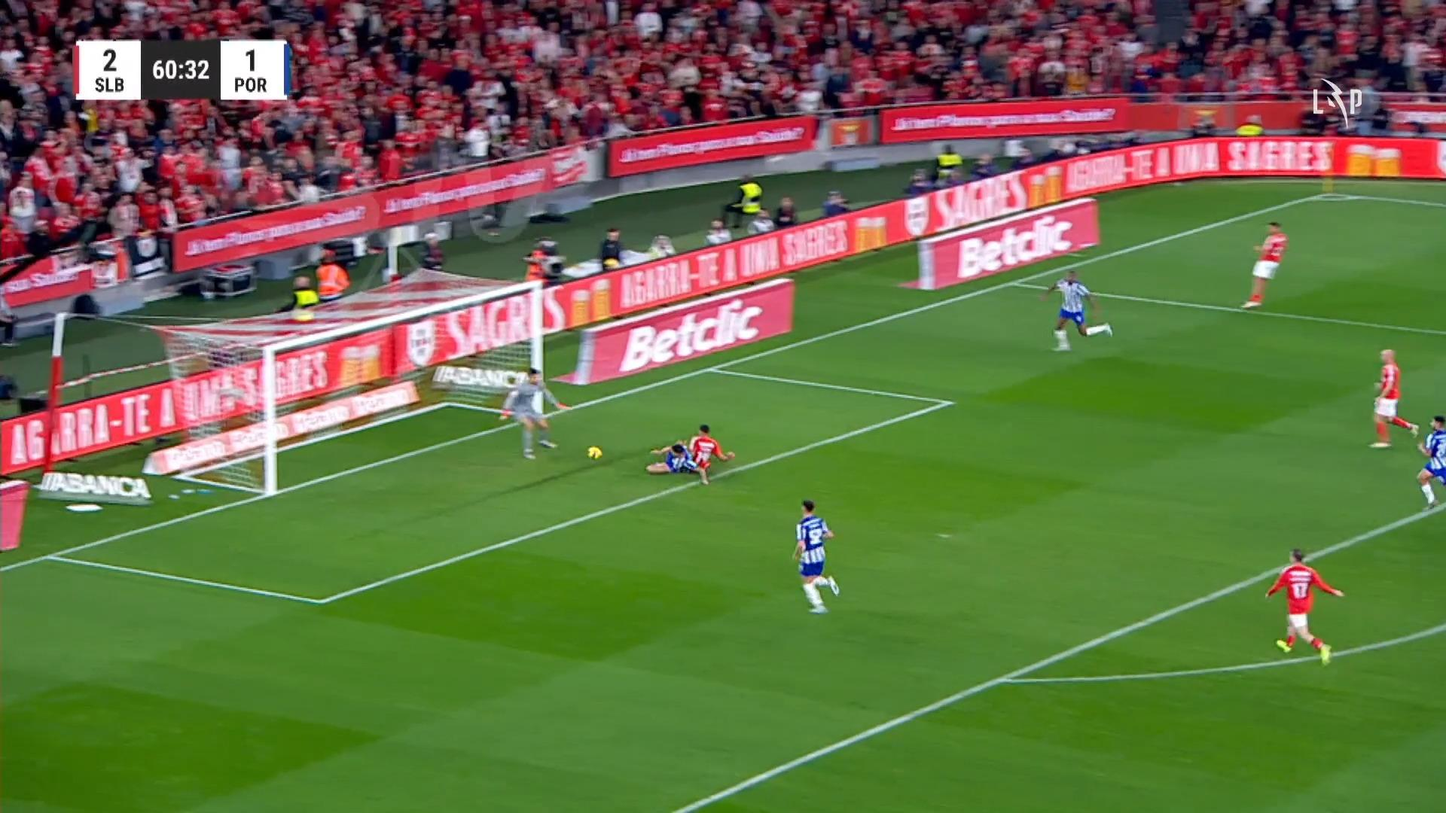ball: (587, 445, 602, 460)
goalkeeper: (497, 367, 569, 459)
player: (1264, 547, 1344, 666), (1039, 268, 1112, 352), (791, 498, 840, 614), (1368, 347, 1418, 448), (1240, 220, 1287, 309), (688, 423, 735, 485), (1414, 414, 1444, 508), (645, 440, 697, 474)
